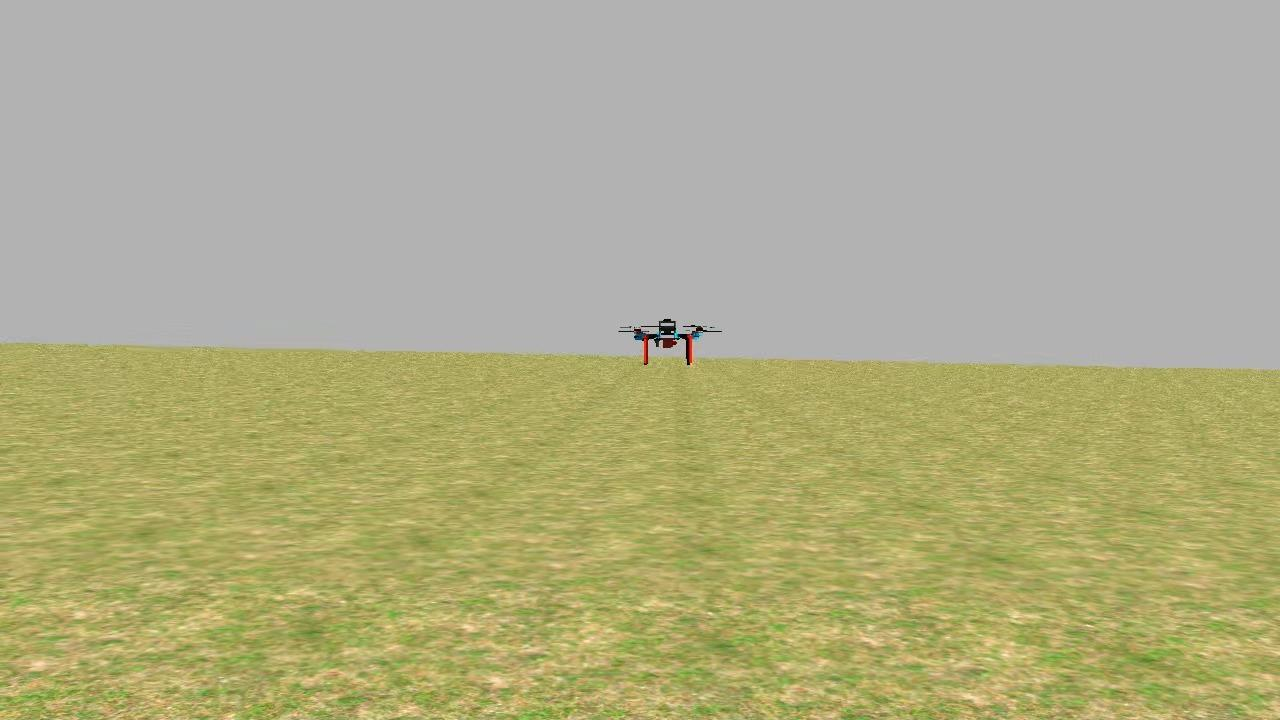UAV: (616, 300, 727, 375)
